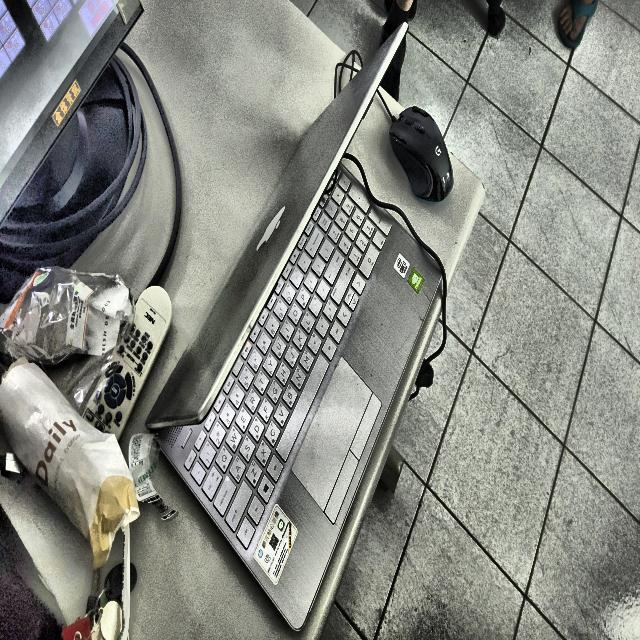laptop: (147, 29, 441, 630)
